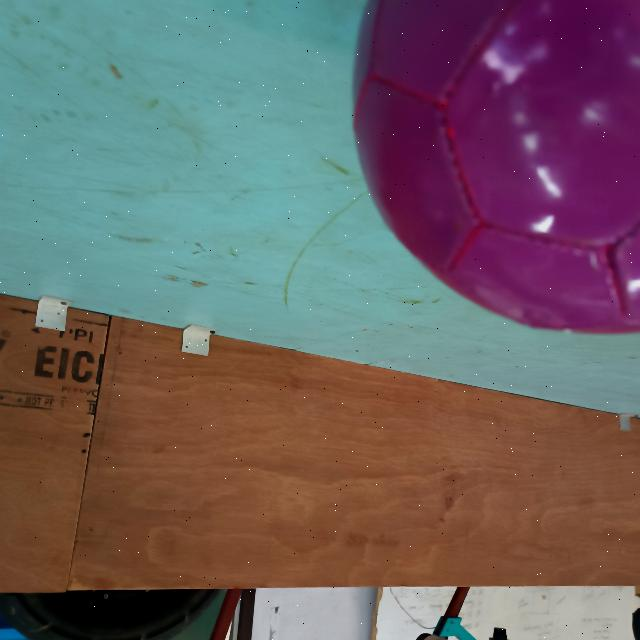P: (342, 0, 640, 344)
